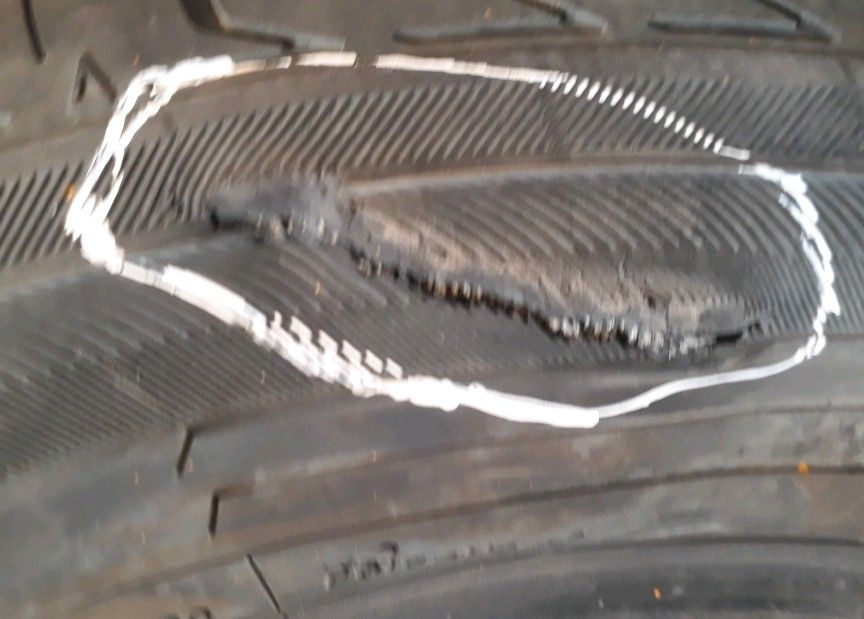cut: (197, 205, 773, 355)
